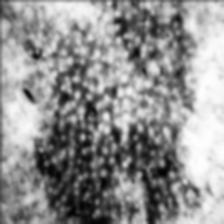Potentially Malignant Skin Tumors: (26, 7, 196, 212)
